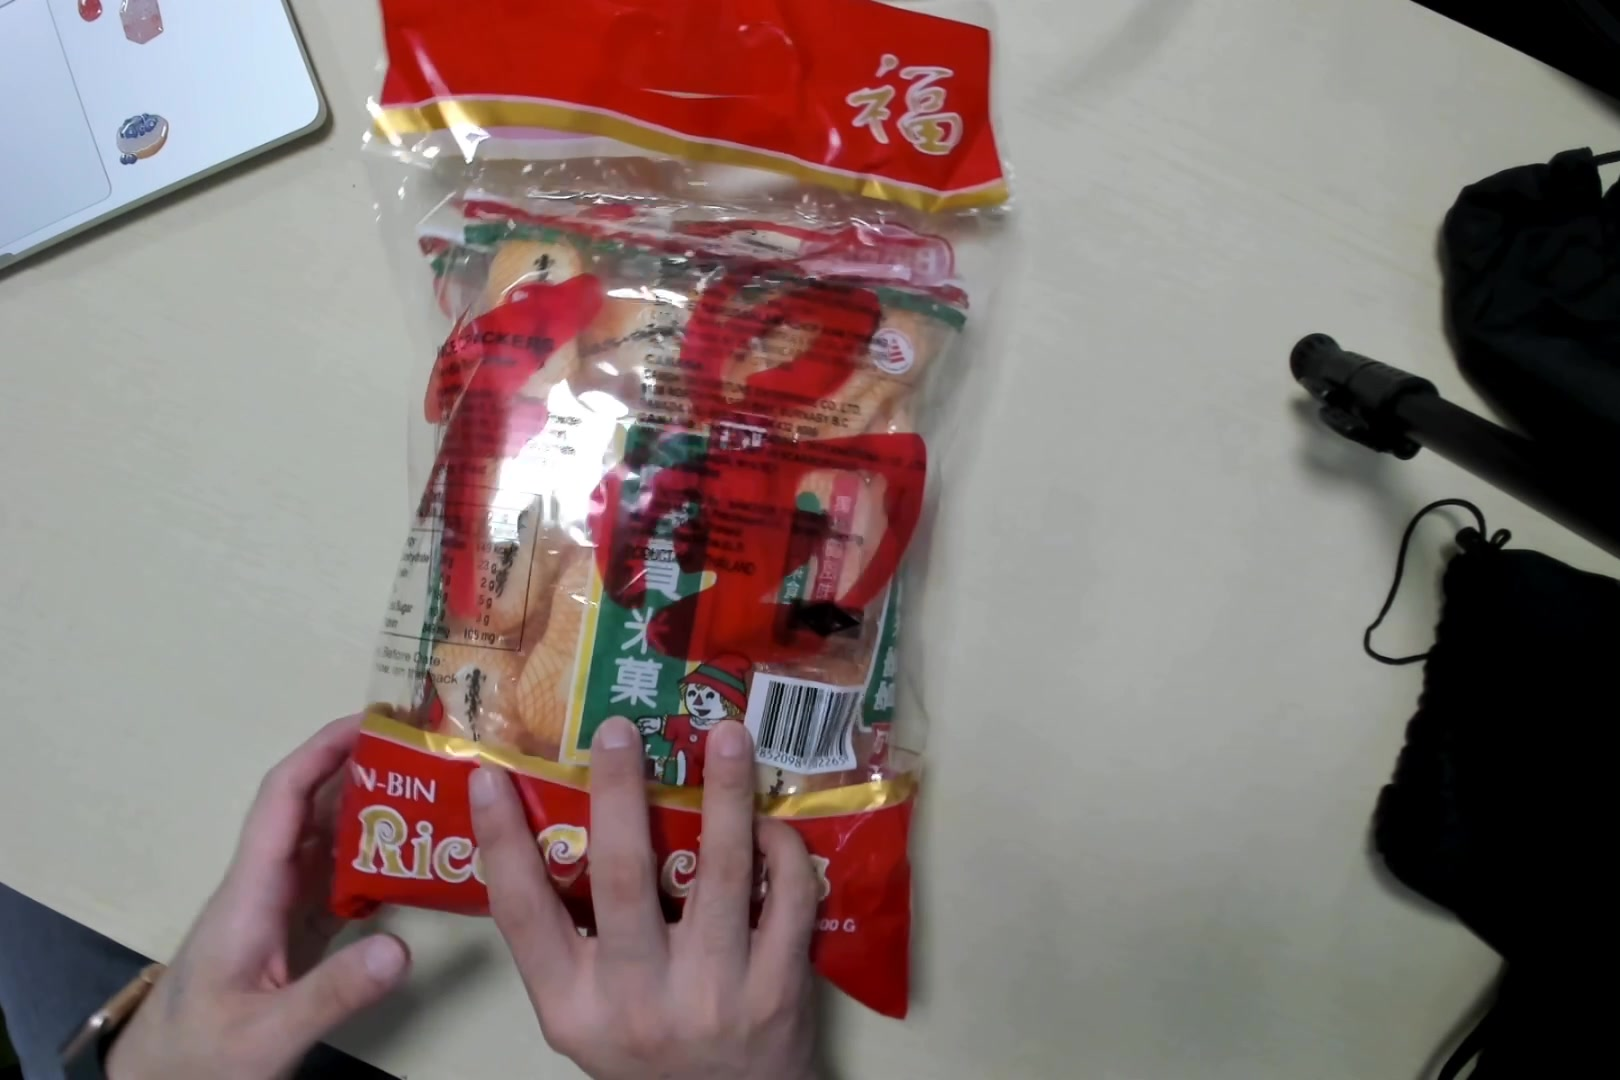PotatoChipsKeropok_300-399g_NonHalal_NonHealthy: (362, 6, 945, 975)
